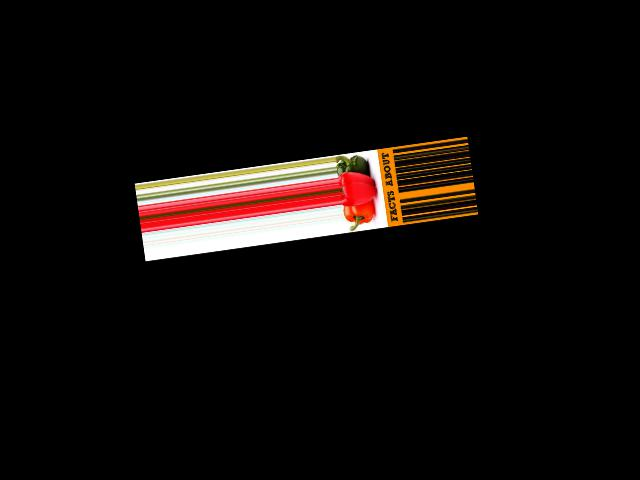bell_pepper: (335, 151, 374, 175)
